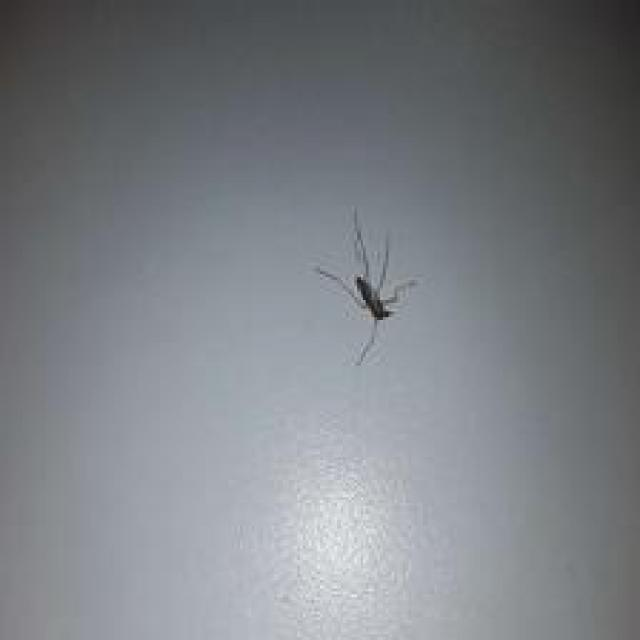Culex: (313, 206, 418, 366)
